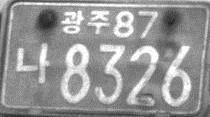2: (124, 43, 162, 109)
3: (92, 42, 125, 106)
6: (160, 43, 192, 108)
7: (136, 10, 160, 41)
8: (58, 42, 91, 104), (113, 9, 135, 39)
광주_O: (59, 8, 110, 36)
나: (14, 41, 52, 86)
